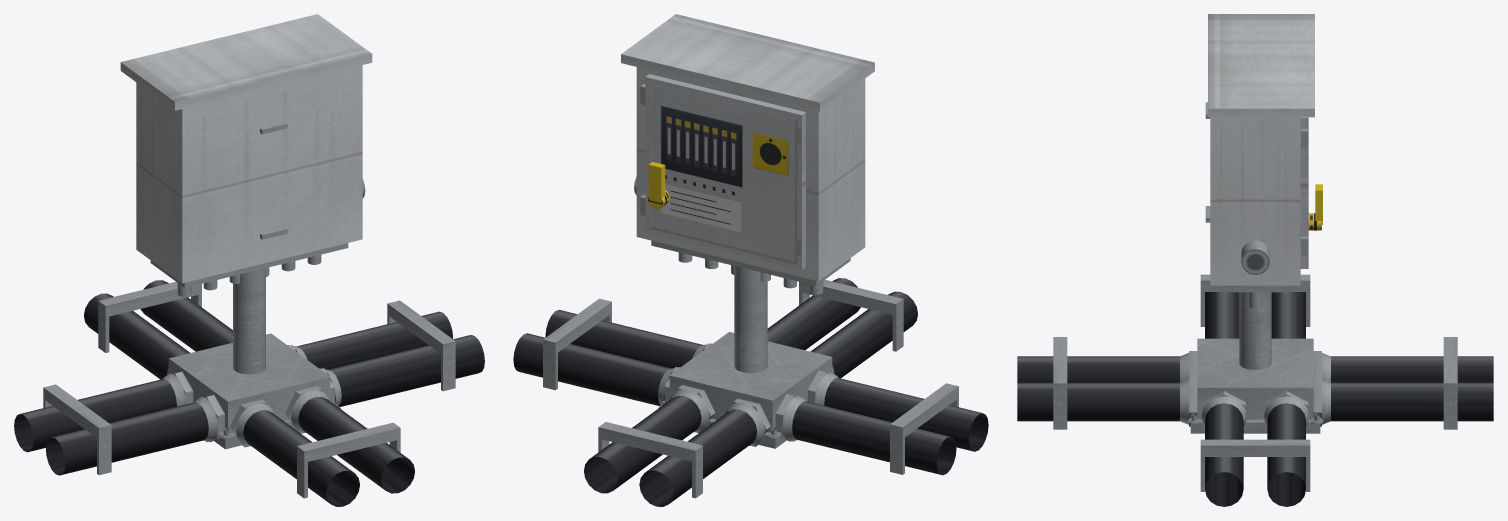
Rendered from pv_combiner.obj.
The picture shows the model from 3 angles, left to right: view 1: azimuth 30°, elevation 25°; view 2: azimuth 150°, elevation 25°; view 3: azimuth 270°, elevation 25°; orthographic projection. The views are drawn at different scales.
Visible parts, largest first — view 1: enclosure, entry_west, entry_south, entry_east, entry_north, base, post, glands; view 2: enclosure, door, entry_west, entry_north, entry_east, entry_south, base, post, glands, rotate_handle; view 3: enclosure, entry_north, entry_south, entry_east, base, entry_west, post, glands, door.
Boxes of the visible parts, bbox=[...] form: enclosure: bbox=[120, 14, 372, 283]; entry_west: bbox=[14, 371, 224, 475]; entry_south: bbox=[230, 386, 414, 506]; entry_east: bbox=[287, 300, 484, 407]; entry_north: bbox=[84, 280, 232, 379]; base: bbox=[168, 333, 340, 449]; post: bbox=[233, 122, 287, 374]; glands: bbox=[150, 179, 365, 296]; enclosure: bbox=[621, 14, 874, 281]; door: bbox=[640, 74, 805, 270]; entry_west: bbox=[775, 370, 988, 475]; entry_north: bbox=[584, 385, 770, 506]; entry_east: bbox=[513, 298, 712, 406]; entry_south: bbox=[767, 278, 917, 378]; base: bbox=[658, 332, 832, 448]; post: bbox=[734, 266, 767, 373]; glands: bbox=[634, 176, 850, 294]; rotate_handle: bbox=[648, 162, 669, 209]; enclosure: bbox=[1208, 14, 1314, 285]; entry_north: bbox=[1313, 337, 1493, 429]; entry_south: bbox=[1017, 337, 1197, 429]; entry_east: bbox=[1200, 391, 1310, 506]; base: bbox=[1187, 338, 1323, 433]; entry_west: bbox=[1200, 274, 1310, 338]; post: bbox=[1205, 102, 1271, 369]; glands: bbox=[1222, 240, 1288, 309]; door: bbox=[1300, 117, 1308, 268].
Size of what is drawn, in the model's own units: 1 by 0.8114 by 1.
